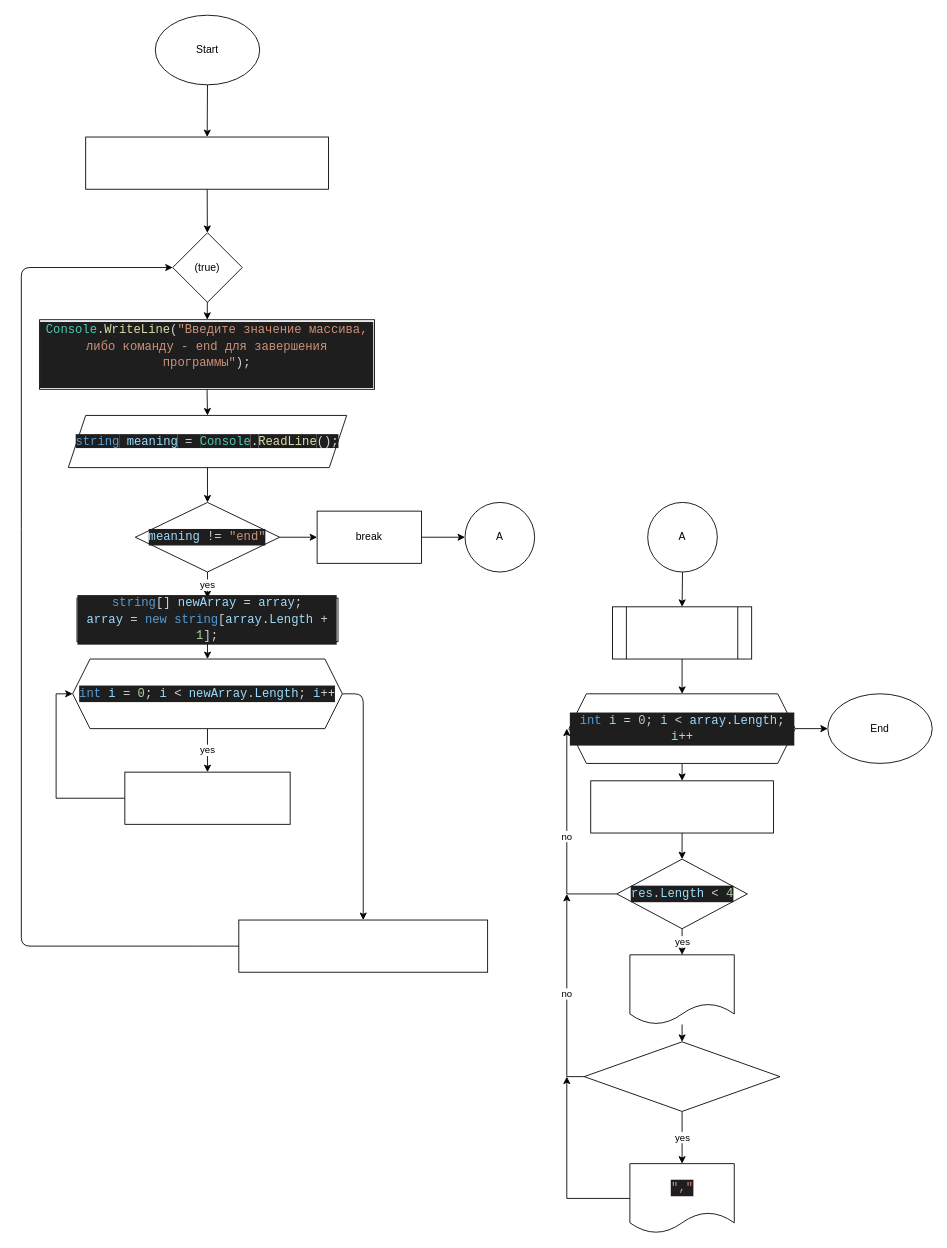
This 947x1248 diagram has some shape labels left out. The shapes that lost their labels are listed below. From the top down, each one's centre as x and y in pixels, then its label:
At (x=206, y=162): "string [] array = new string [ 0 ]".
At (x=682, y=632): "WriteArray ( string [] array )".
At (x=207, y=797): "array [ i ] = newArray [ i ];".
At (x=681, y=806): "string res = string . Empty res = array [ i ];".
At (x=363, y=945): "array [ array . Length - 1 ] = meaning ;".
At (x=681, y=989): "array [ i ]".
At (x=681, y=1076): "i < array . Length - 2".
